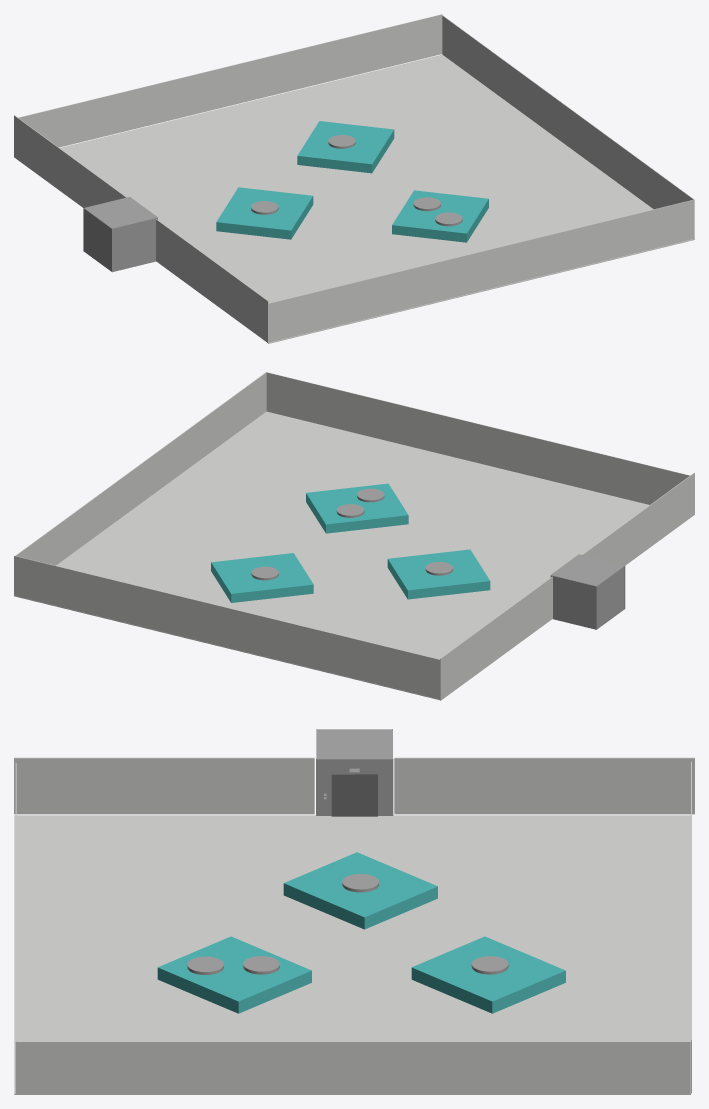
The model's file is salon.fbx.
3 renders of one model, top to bottom at view 1: azimuth 30°, elevation 25°; view 2: azimuth 150°, elevation 25°; view 3: azimuth 270°, elevation 25°, orthographic. The views are drawn at different scales.
Parts seen in each view (by area): view 1: polySurface24, polySurface23, polySurface26, polySurface27, polySurface22, polySurface25, pPlane4, pPlane2, pPlane3, polySurface14, polySurface9, polySurface12; view 2: polySurface24, polySurface26, polySurface23, polySurface27, polySurface25, polySurface22, pPlane2, pPlane4, pPlane3, polySurface13, polySurface9, polySurface12; view 3: polySurface24, polySurface27, polySurface22, polySurface25, pPlane4, pPlane2, pPlane3, polySurface9, polySurface2, polySurface5, polySurface1, polySurface10 (+6 smaller).
Part boxes in pixels (bbox=[...]): polySurface24: bbox=[60, 54, 694, 343]; polySurface23: bbox=[268, 199, 694, 342]; polySurface26: bbox=[18, 14, 442, 147]; polySurface27: bbox=[442, 15, 694, 209]; polySurface22: bbox=[156, 219, 268, 342]; polySurface25: bbox=[14, 115, 126, 207]; pPlane4: bbox=[297, 121, 394, 173]; pPlane2: bbox=[216, 187, 313, 239]; pPlane3: bbox=[392, 190, 488, 242]; polySurface14: bbox=[111, 218, 157, 271]; polySurface9: bbox=[84, 197, 158, 228]; polySurface12: bbox=[84, 208, 111, 271]; polySurface24: bbox=[14, 411, 649, 700]; polySurface26: bbox=[14, 555, 439, 699]; polySurface23: bbox=[266, 372, 689, 504]; polySurface27: bbox=[15, 372, 266, 565]; polySurface25: bbox=[440, 576, 552, 700]; polySurface22: bbox=[582, 472, 694, 565]; pPlane2: bbox=[387, 549, 490, 599]; pPlane4: bbox=[211, 553, 313, 602]; pPlane3: bbox=[306, 483, 408, 533]; polySurface13: bbox=[551, 575, 596, 629]; polySurface9: bbox=[551, 554, 624, 586]; polySurface12: bbox=[597, 566, 624, 629]; polySurface24: bbox=[14, 815, 690, 1094]; polySurface27: bbox=[16, 1041, 690, 1094]; polySurface22: bbox=[14, 757, 314, 814]; polySurface25: bbox=[394, 757, 694, 814]; pPlane4: bbox=[411, 936, 565, 1013]; pPlane2: bbox=[283, 852, 437, 929]; pPlane3: bbox=[157, 936, 311, 1013]; polySurface9: bbox=[317, 729, 392, 760]; polySurface2: bbox=[354, 774, 377, 816]; polySurface5: bbox=[331, 774, 354, 816]; polySurface1: bbox=[377, 759, 393, 815]; polySurface10: bbox=[322, 760, 385, 773].
Size of the model in its own units: 712 by 63.03 by 665.
